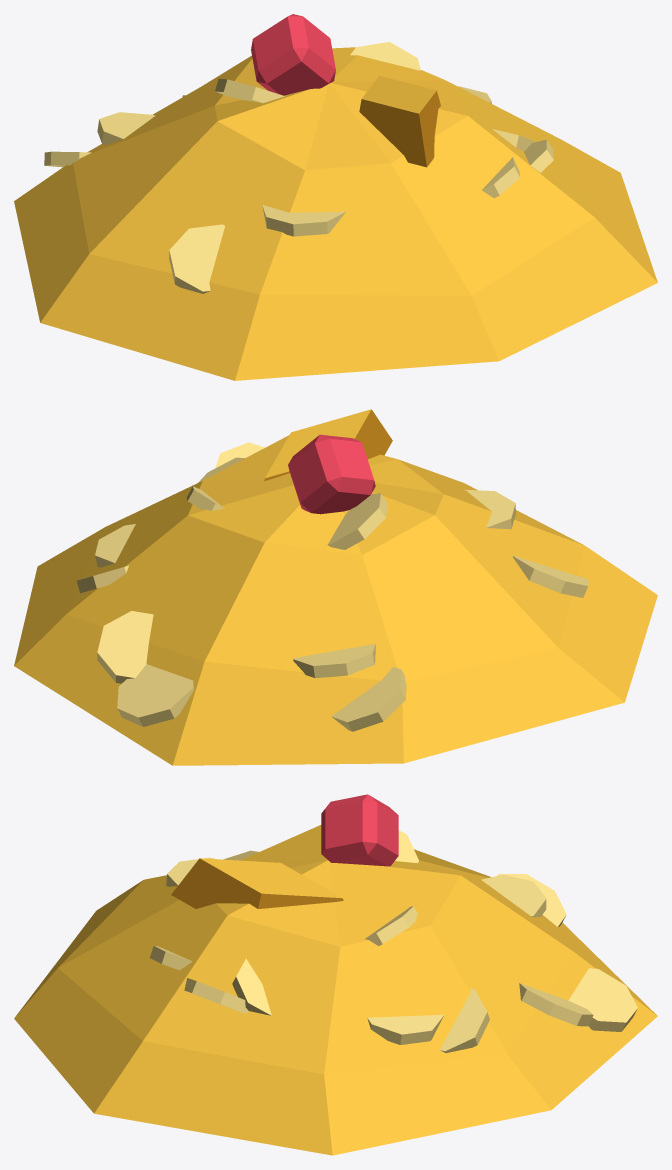
Rendered from TreasurePile.fbx.
3 views of the same model, one above another, from view 1: azimuth 30°, elevation 25°; view 2: azimuth 150°, elevation 25°; view 3: azimuth 270°, elevation 25° (orthographic). The views are drawn at different scales.
Visible parts, largest first — view 1: TreasurePile; view 2: TreasurePile; view 3: TreasurePile.
Part boxes in pixels (x1,y1,x2,y2): TreasurePile: [14, 14, 657, 380]; TreasurePile: [14, 409, 657, 765]; TreasurePile: [14, 794, 657, 1155].
Bounding box in the file's own units: 6.11 × 2.23 × 5.98.
1 material, 1 textured.
